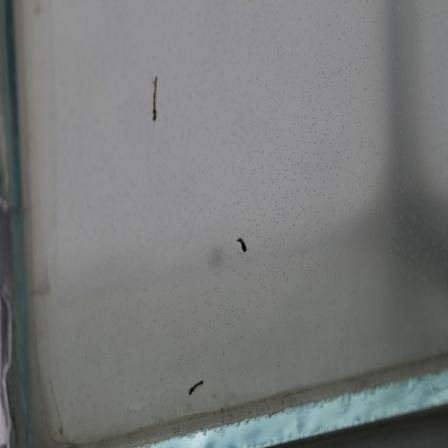Jentik-Nyamuk: (145, 69, 160, 122), (187, 375, 209, 395), (234, 233, 249, 256)
